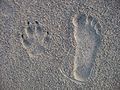human_footprint: (60, 13, 100, 82), (73, 14, 100, 80), (21, 21, 50, 56)
